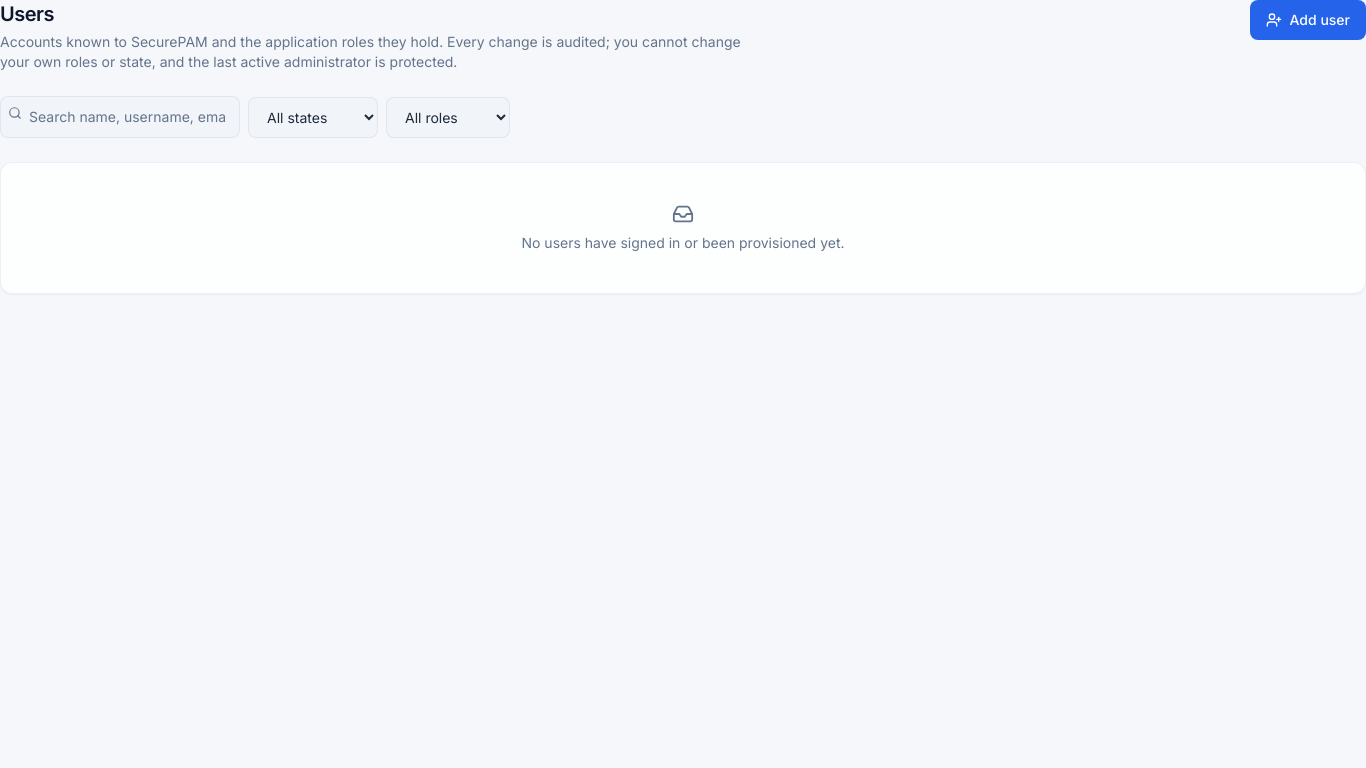
Test case: Users administration › DEV mode requires a 12+ character initial password
Click the button "Add user" at (1308, 20), box [1250,0,1365,40]
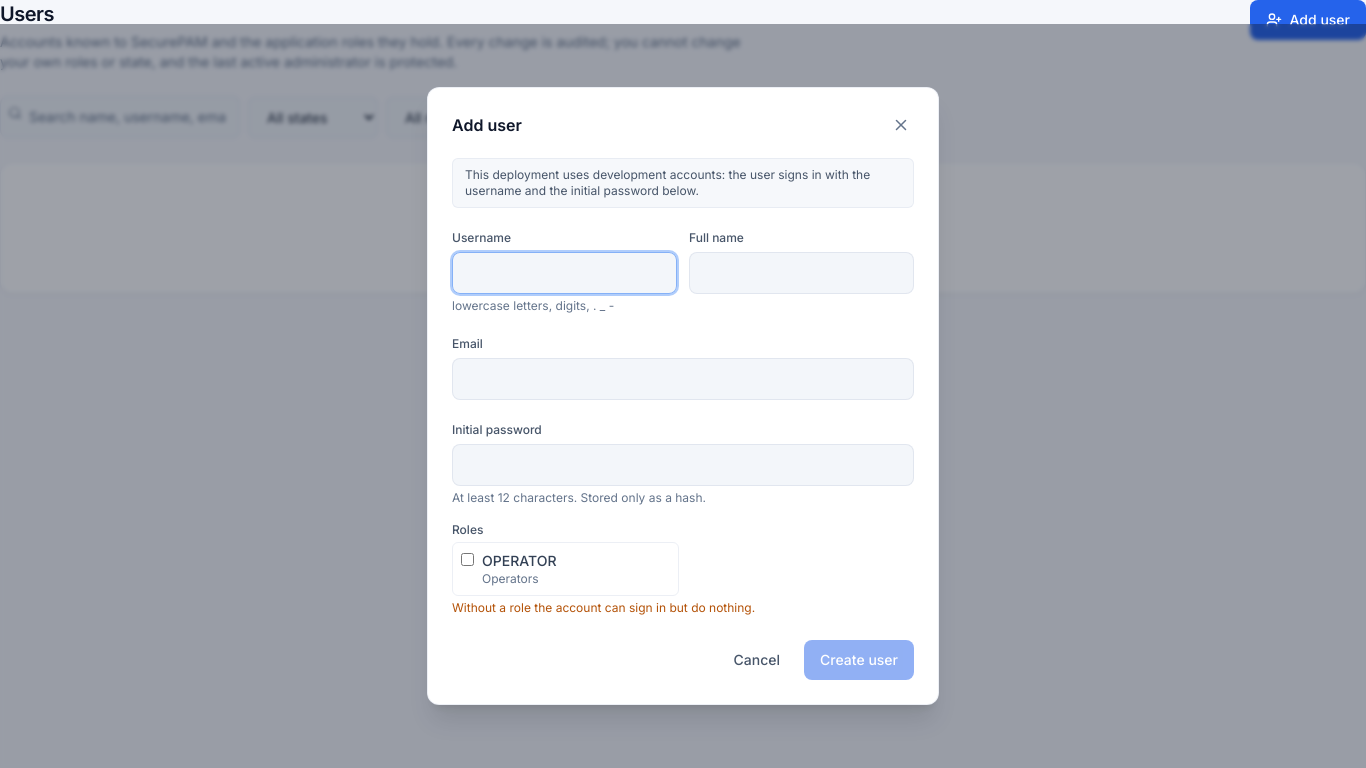
Type "dev.user" into the field labelled "Username lowercase letters, digits, . _ -" at (564, 273), box [452,252,677,294]
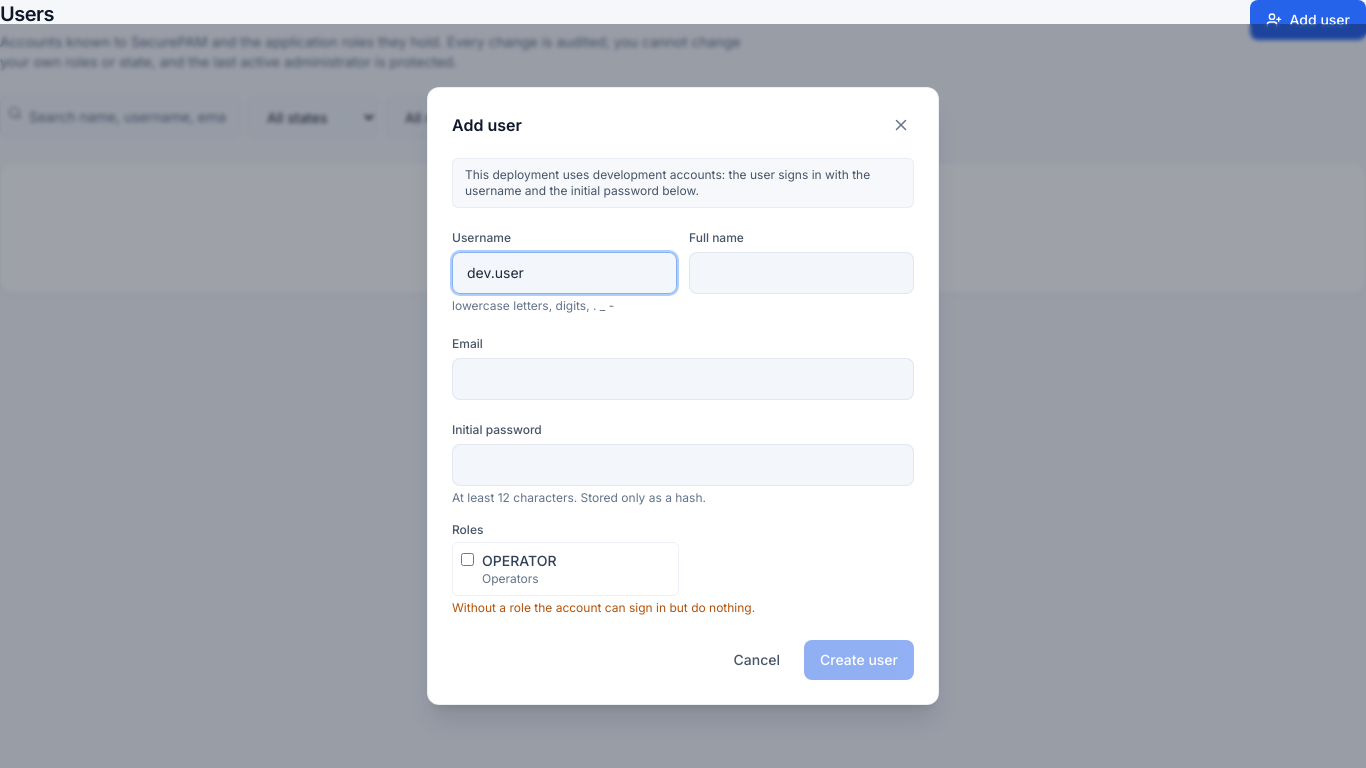
Type "Dev" into the field labelled "Full name" at (802, 273), box [689,252,914,294]
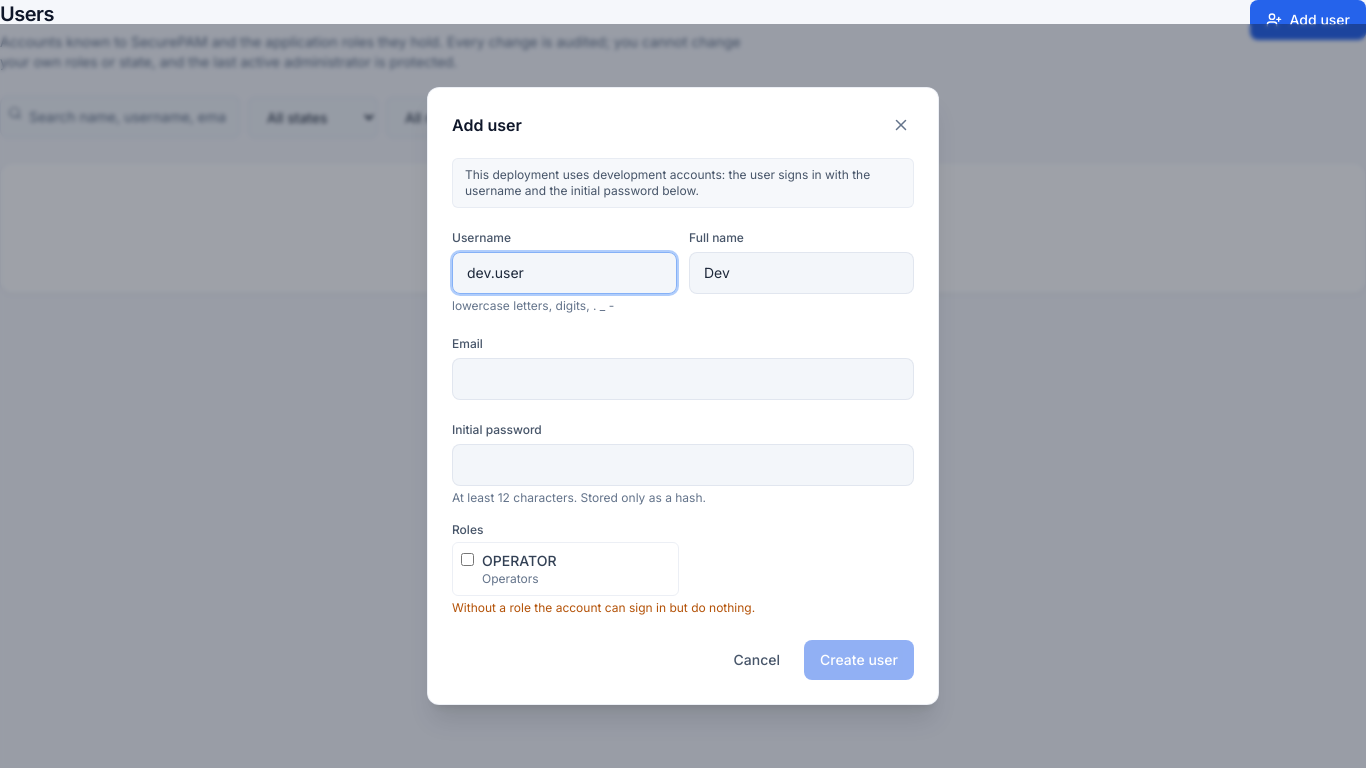
Type "dev@example.com" into the field labelled "Email" at (683, 379), box [452,358,914,400]
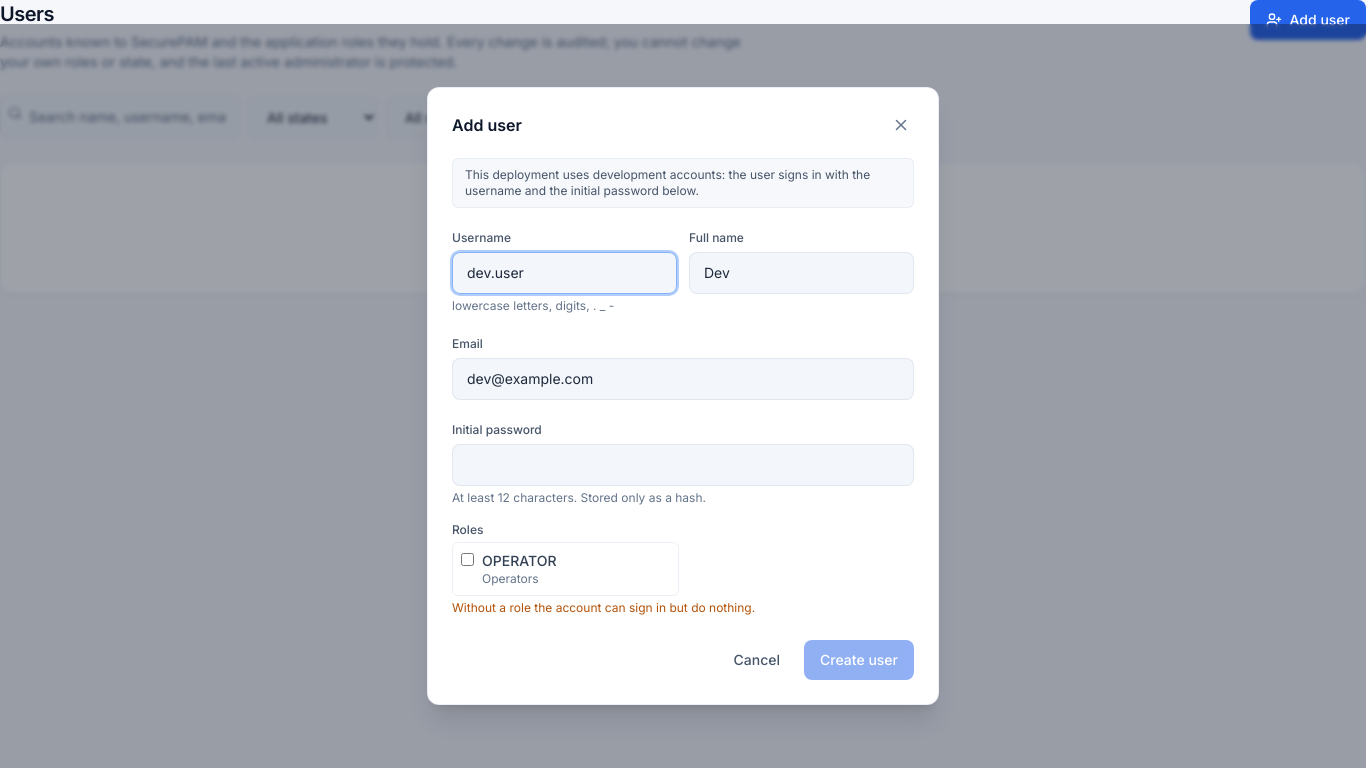
Type "short" into the password field labelled "Initial password" at (683, 465), box [452,444,914,486]
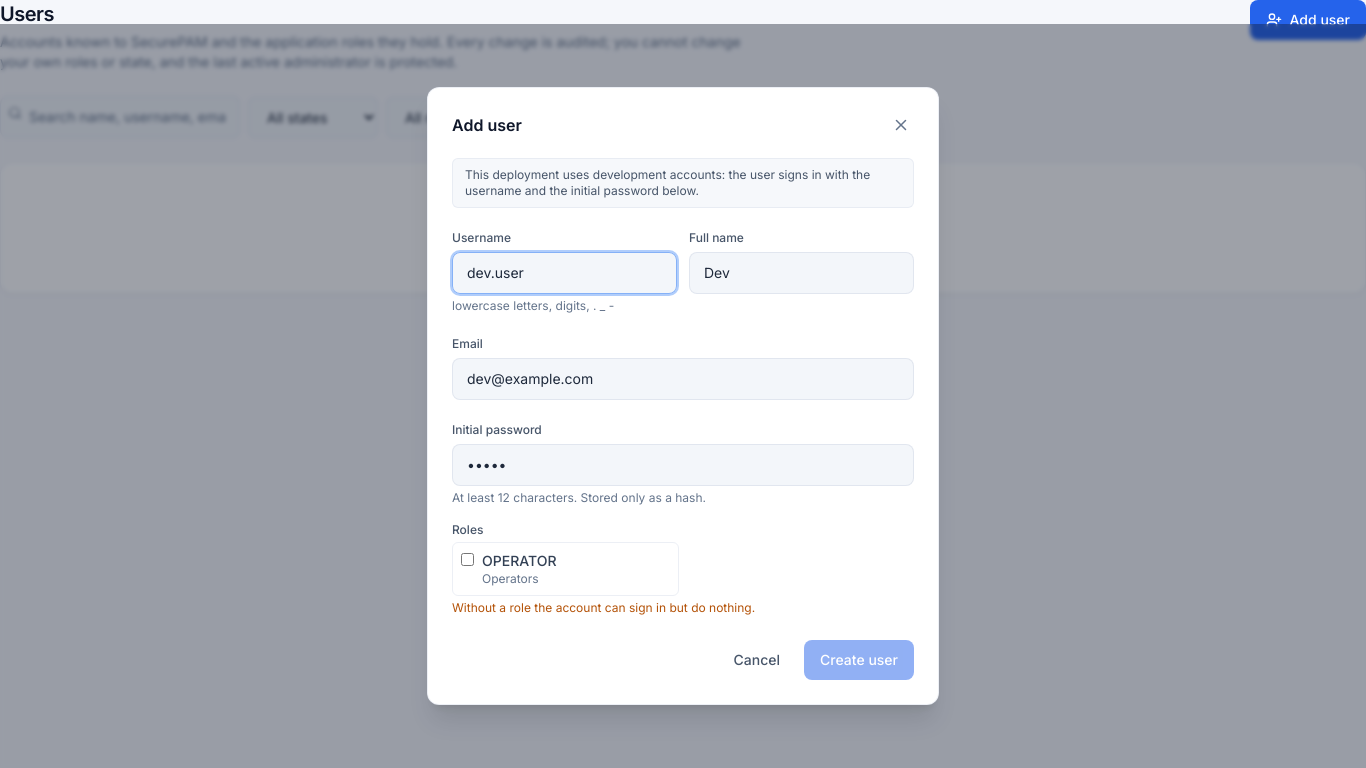
Check: the button "Create user" is disabled, box [804,640,914,680]
Type "long-enough-pass" into the password field labelled "Initial password" at (683, 465), box [452,444,914,486]
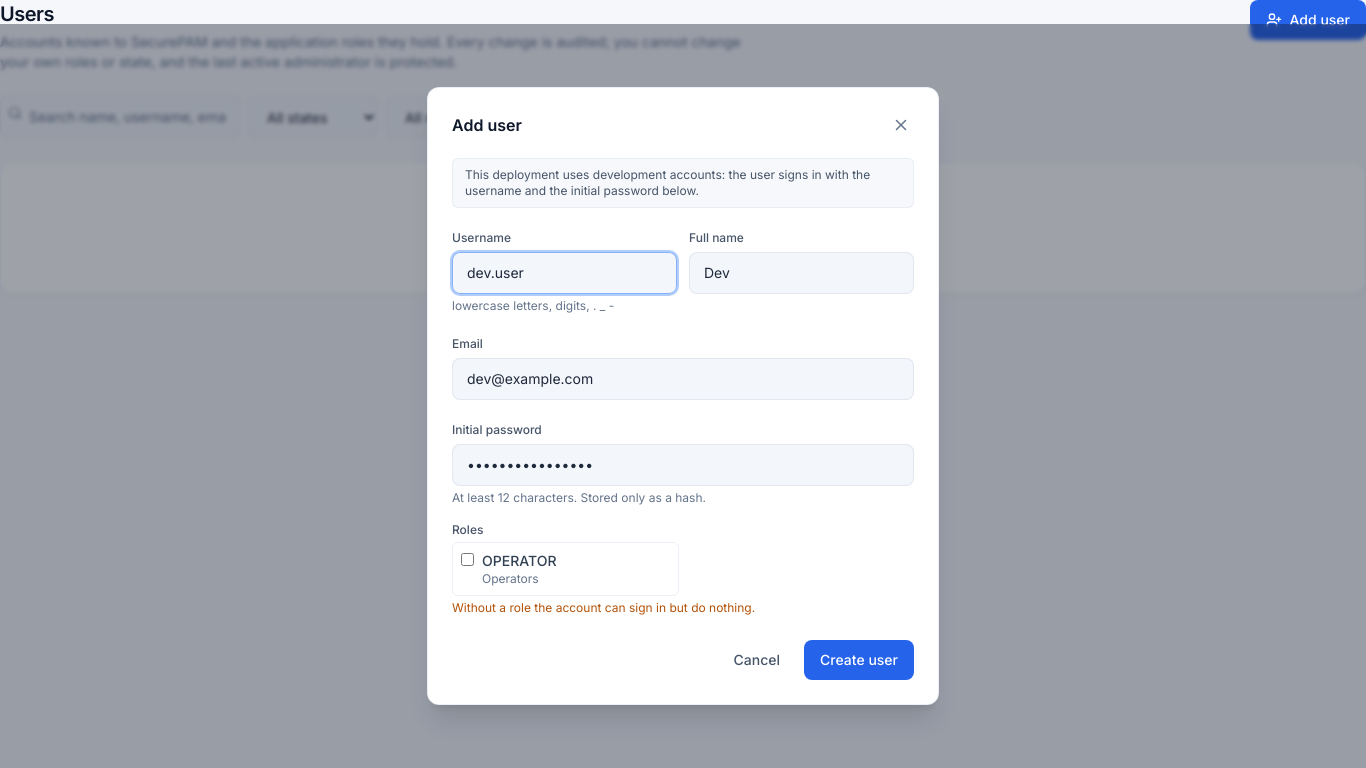
Check: the button "Create user" is enabled, box [804,640,914,680]
